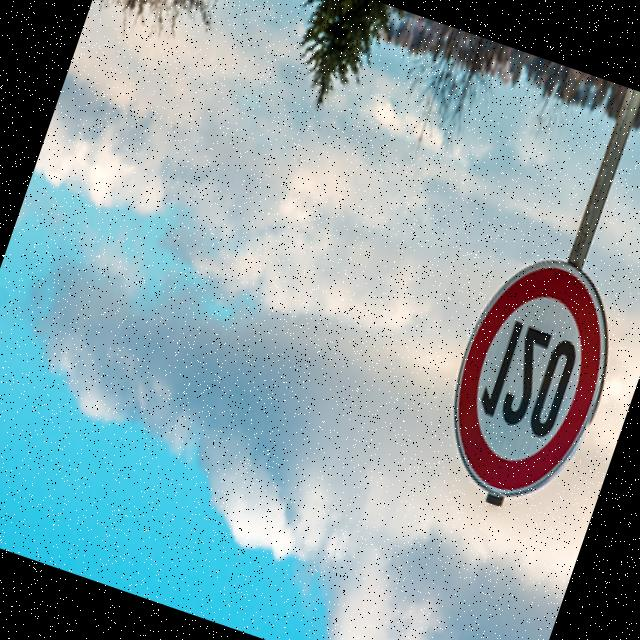speed_limit_120: (413, 231, 640, 524)
